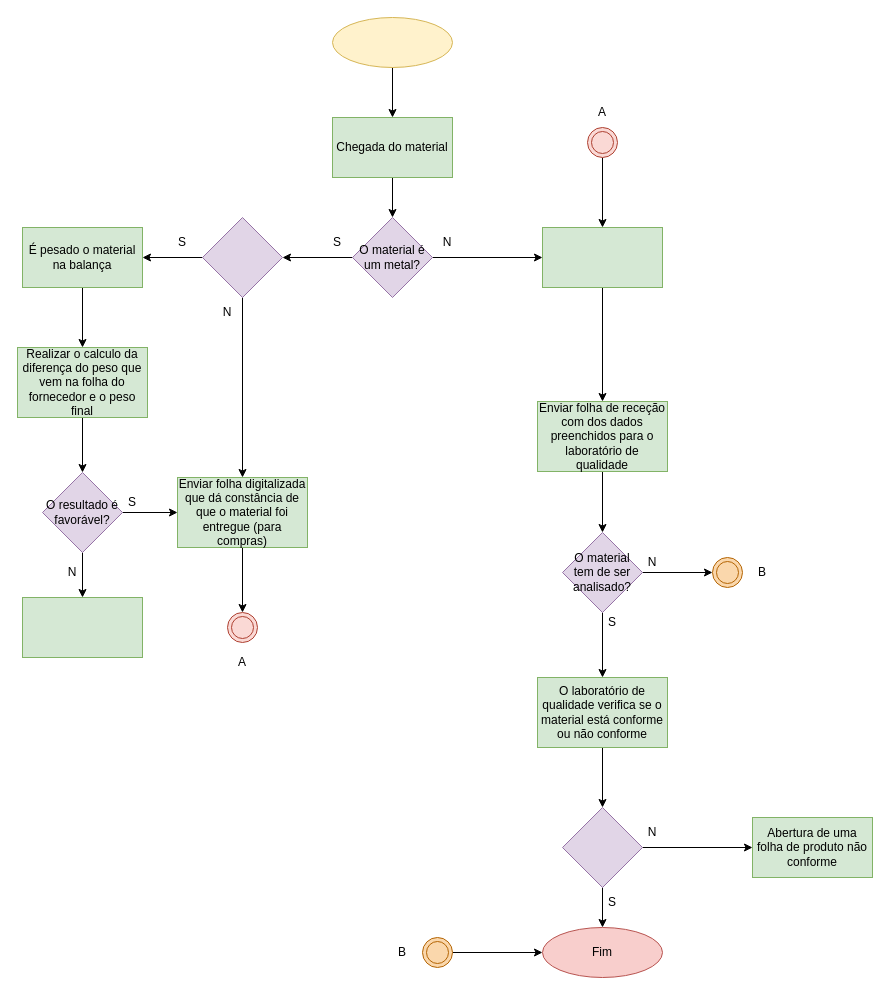
Some shapes in this 890 by 995 pixel diagram are drawn without their labels. Each missing label, with the centre of its shape:
"Alertar a chefia" belongs at point (82, 627).
"Dar entrada em SAP" belongs at point (602, 257).
"Inicio" belongs at point (392, 42).
"O material está ok?" belongs at point (602, 847).
"O material é cobre ou aluminio?" belongs at point (242, 257).
